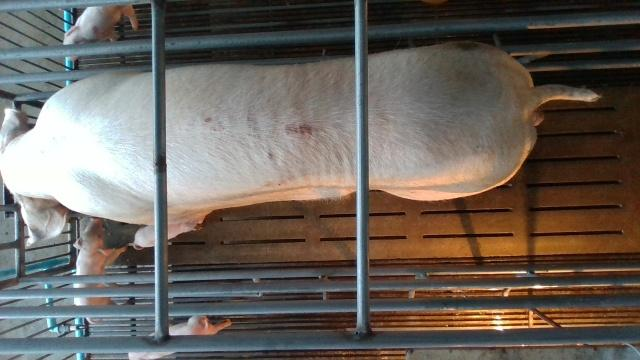piglet: (72, 218, 132, 325), (126, 314, 232, 359), (62, 5, 140, 64), (133, 209, 212, 252)
sow-stand-feed: (1, 42, 598, 245)
